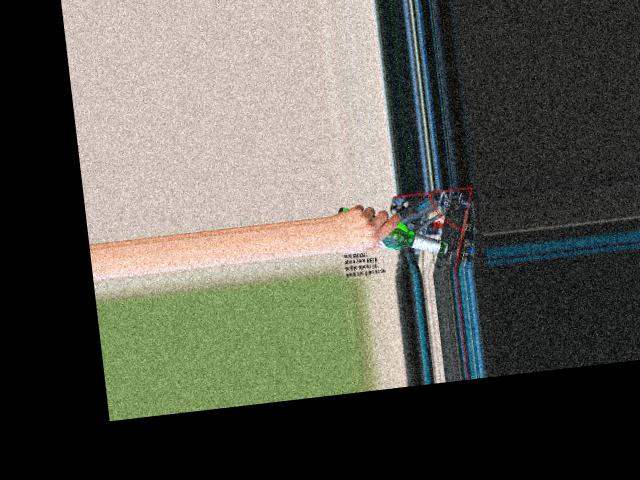beer: (337, 195, 450, 265)
